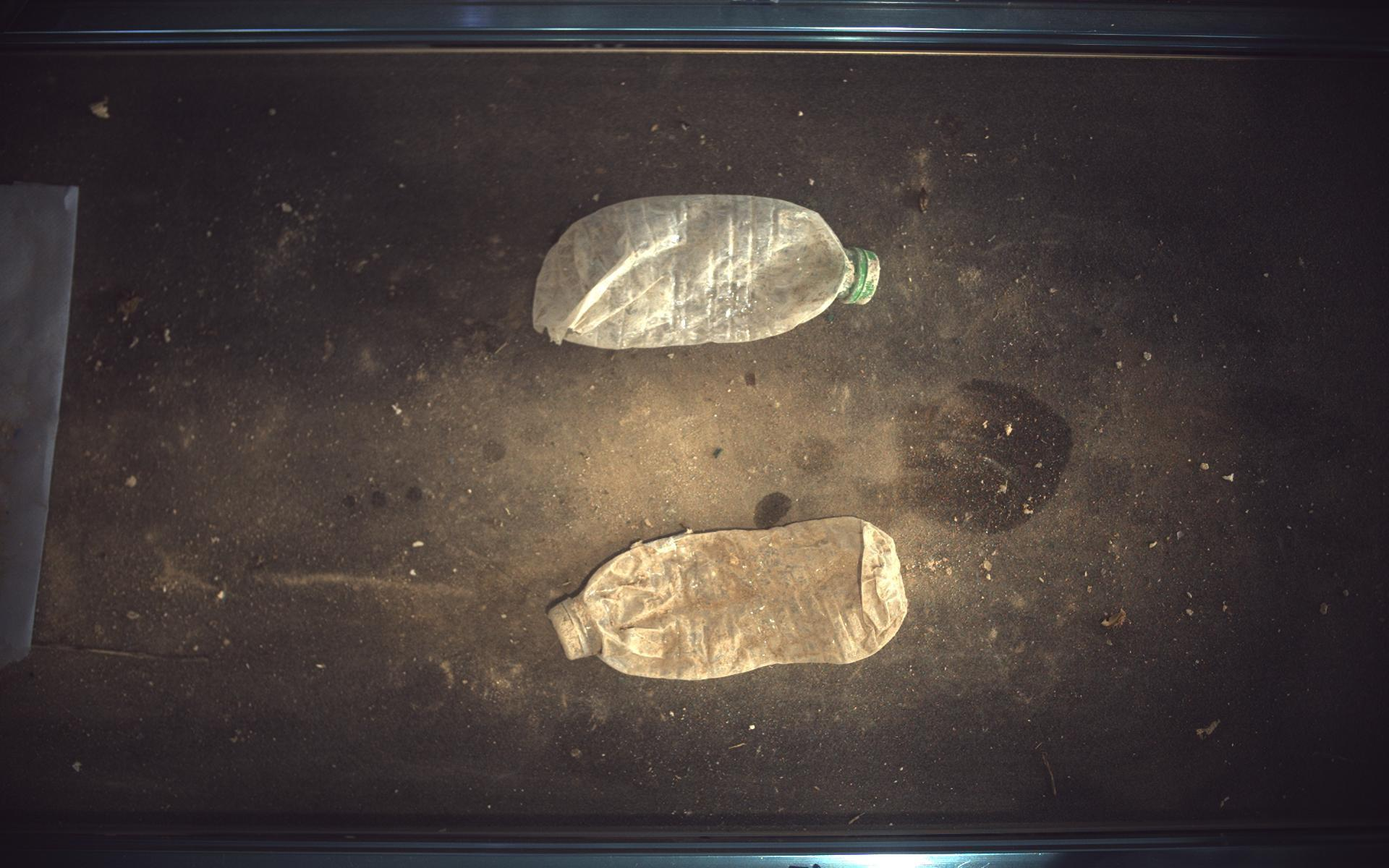general_w: (549, 517, 909, 681), (533, 194, 881, 349)
